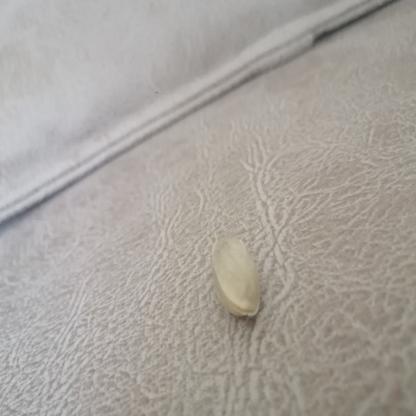pistachio: (209, 236, 269, 324)
